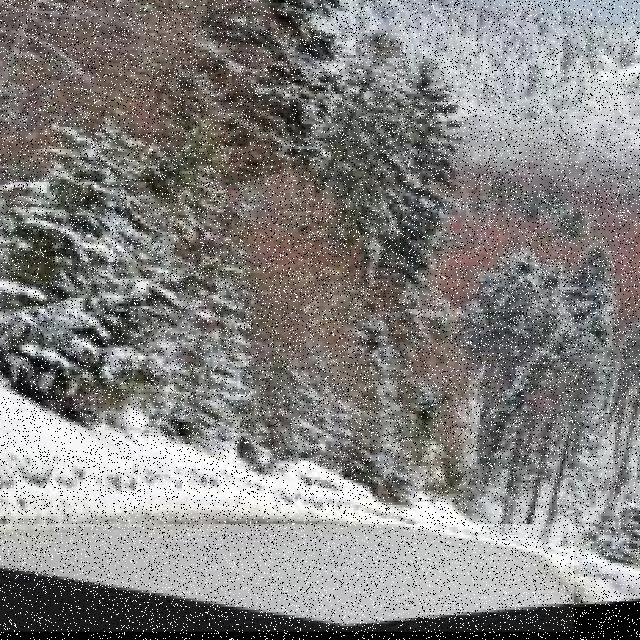clear-road: (0, 525, 573, 632)
